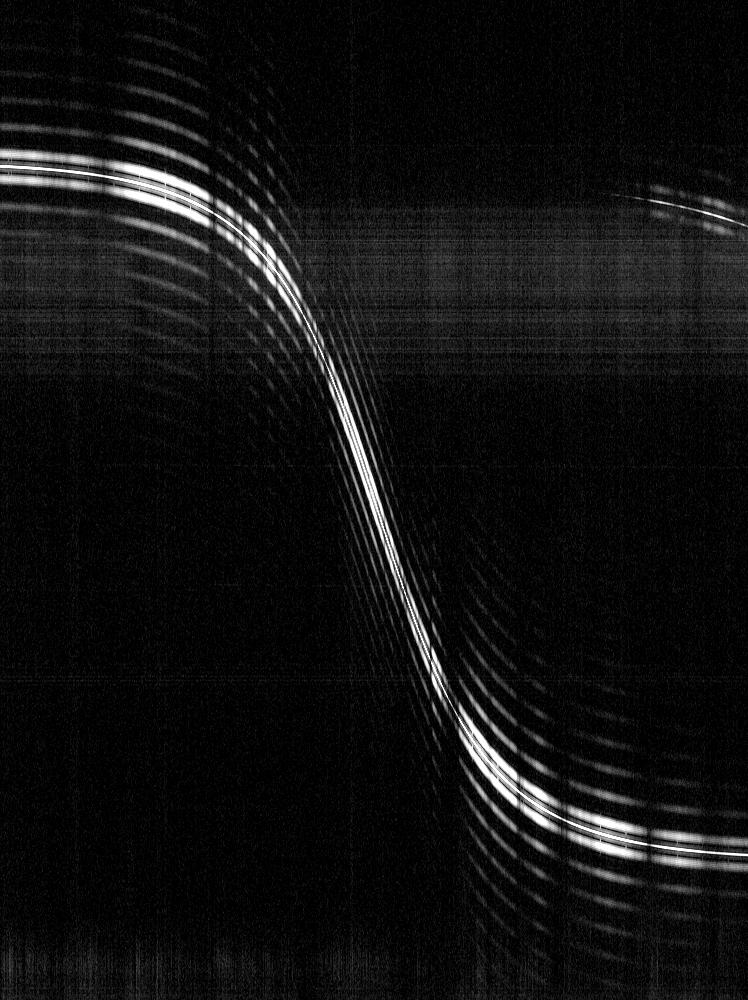signal: (0, 0, 747, 999)
